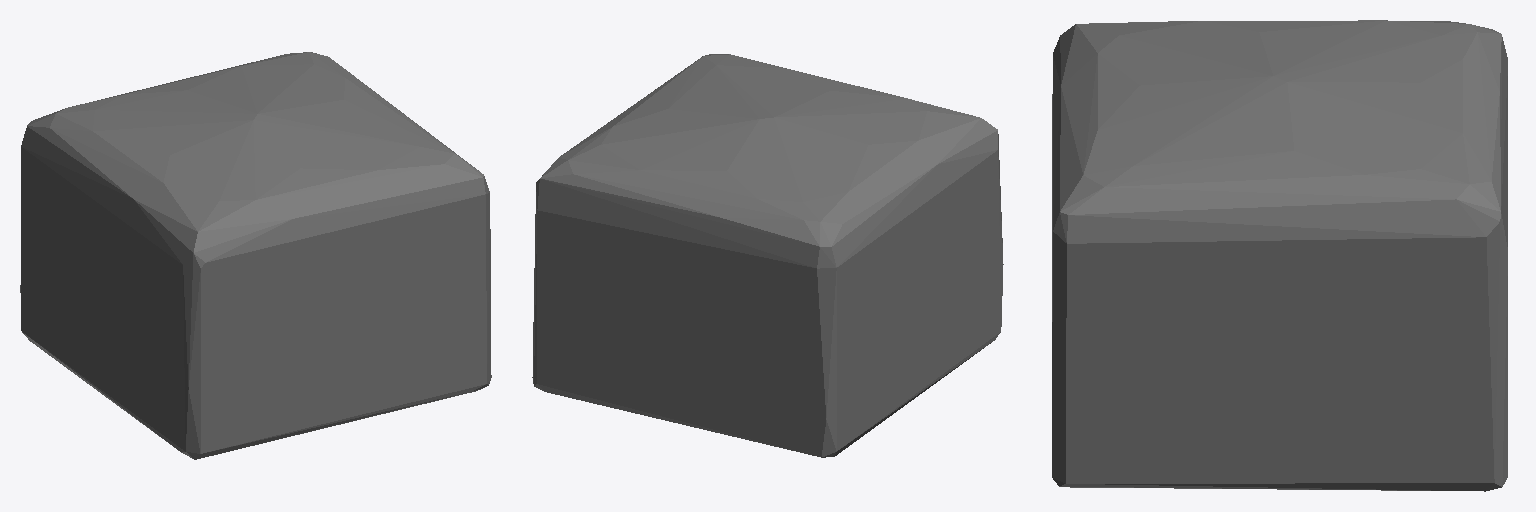
URDF robot description (box_002):
<?xml version="1.0" ?>
<robot name="box_002">
  <material name="color">
    <color rgba=".5 .5 .5 1"/>
  </material>

  <link name="base_link">
    <contact>
      <lateral_friction value="1.0"/>
      <rolling_friction value="0.001"/>
      <spinning_friction value="0.001"/>
      <inertia_scaling value="1.0"/>
    </contact>
    <inertial>
      <origin rpy="0 0 0" xyz="-1.03116e-05 -5.06179e-06 0.00313468"/>
       <mass value="0.1"/>
       <inertia ixx="1" ixy="0" ixz="0" iyy="1" iyz="0" izz="1"/>
    </inertial>

    <visual>
      <origin rpy="0 0 0" xyz="0 0 0"/>
      <geometry>
        <mesh filename="box_002_vhacd_0_of_1.obj" scale="1 1 1"/>
      </geometry>
      <material name="color"/>
    </visual>

    <collision>
      <origin rpy="0 0 0" xyz="0 0 0"/>
      <geometry>
        <mesh filename="box_002_vhacd_0_of_1.obj" scale="1 1 1"/>
      </geometry>
    </collision>

  </link>
</robot>

--- What the picture shows (computed from the rendered views, not written in the file) ---
3 views of the same robot in one strip: view 1: azimuth 30°, elevation 25°; view 2: azimuth 150°, elevation 25°; view 3: azimuth 270°, elevation 25° (orthographic).
Robot: box_002 — 1 links, 0 joints (none); root link base_link; default pose: all joints at 0.
Visible links, largest first — view 1: base_link; view 2: base_link; view 3: base_link.
Link boxes in pixels (box(x1,y1,x2,y2)): base_link: box(20, 52, 491, 459); base_link: box(532, 54, 1003, 457); base_link: box(1052, 20, 1507, 491).
Bounding box of the posed robot: 0.1692 × 0.1691 × 0.131 m (x, y, z).
Meshes: 1 distinct files referenced, 1 mesh visuals loaded (1 OBJ).